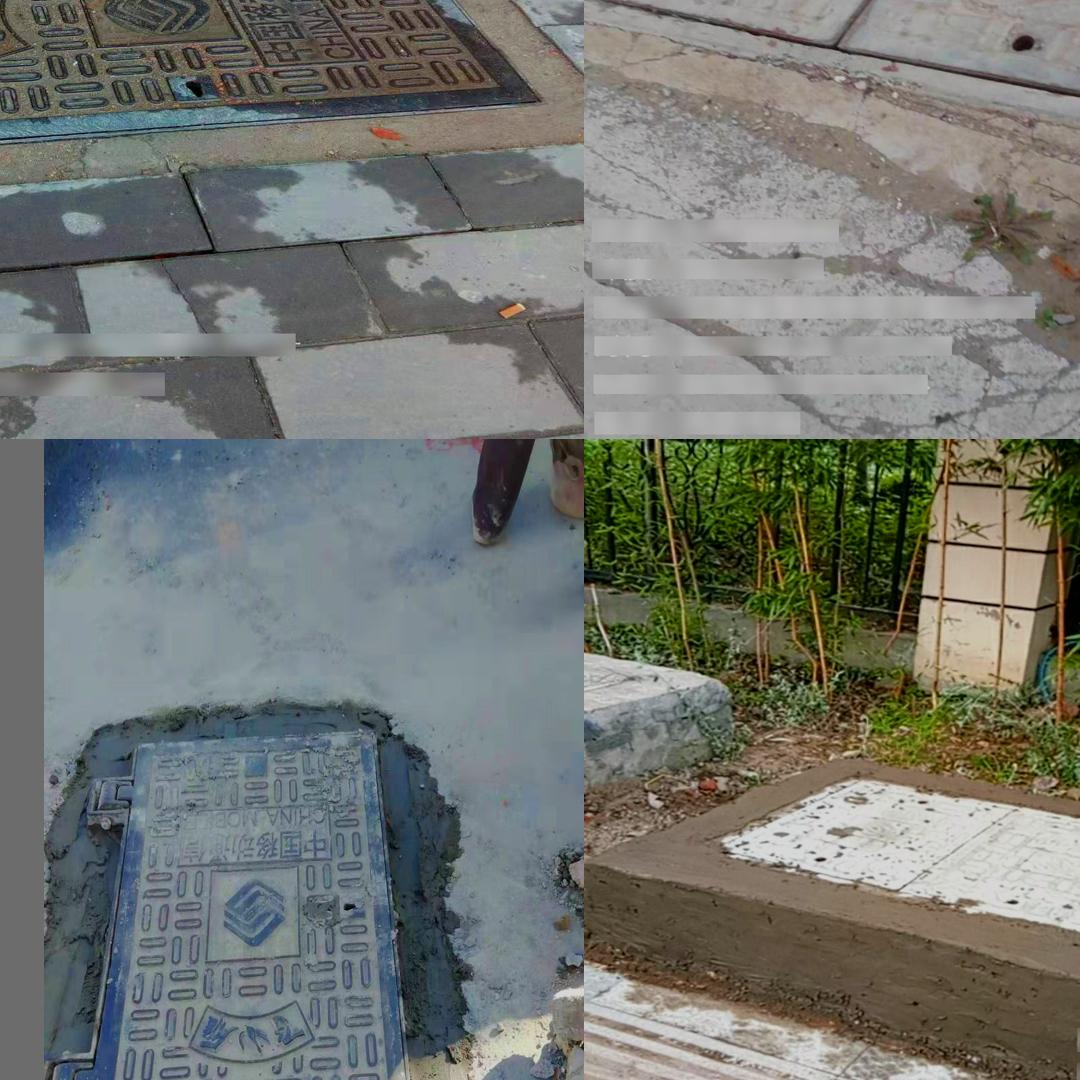good: (44, 730, 422, 1080), (0, 0, 559, 148), (584, 0, 1080, 159), (700, 775, 1080, 936)
